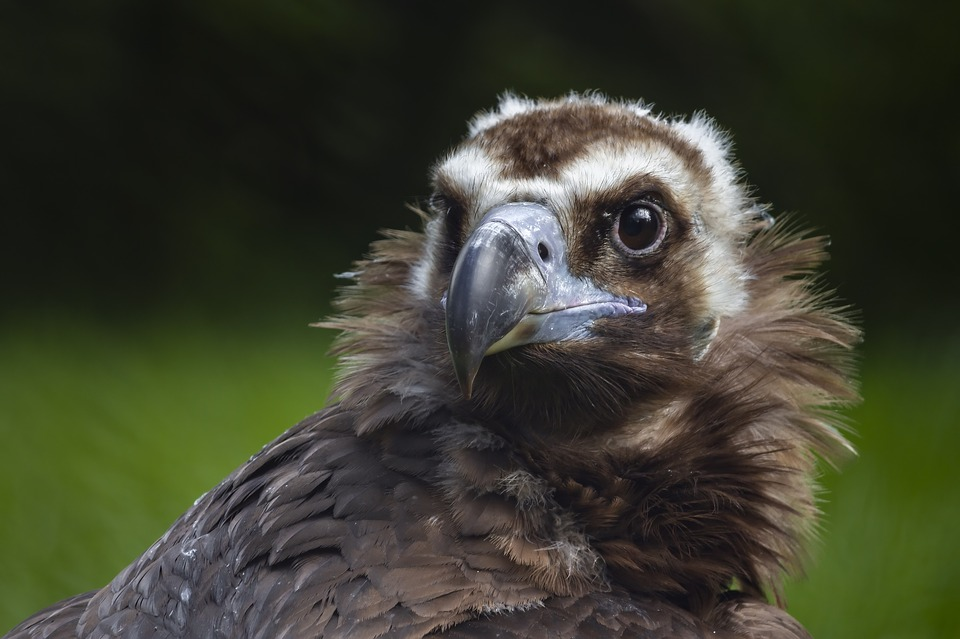Pengoyak Daging: (421, 217, 565, 406)
